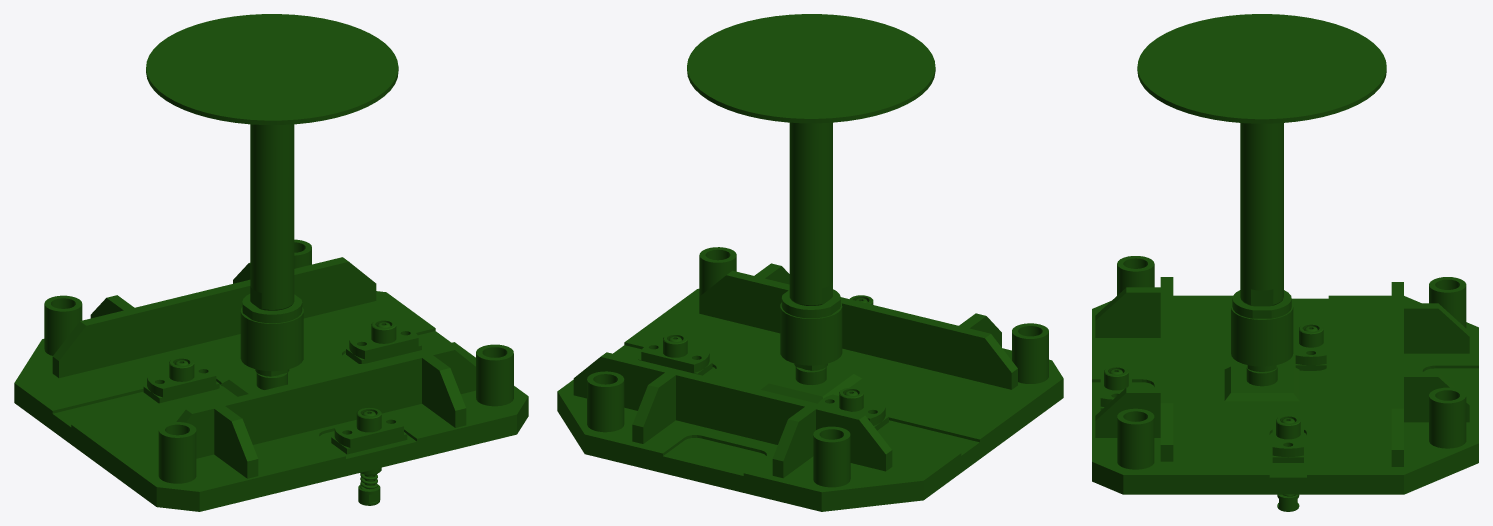
File: D-621-810-AC_強化肋.FBX
The picture shows the model from 3 angles, left to right: view 1: azimuth 30°, elevation 25°; view 2: azimuth 150°, elevation 25°; view 3: azimuth 270°, elevation 25°; orthographic projection.
Parts seen in each view (by area): view 1: 基台, 強化肋; view 2: 基台, 強化肋; view 3: 基台, 強化肋.
Part boxes in pixels (left/top/right/bottom): 基台: left=14, top=14, right=528, bottom=511; 強化肋: left=52, top=257, right=475, bottom=478; 基台: left=557, top=14, right=1063, bottom=511; 強化肋: left=573, top=263, right=1017, bottom=478; 基台: left=1092, top=14, right=1478, bottom=511; 強化肋: left=1095, top=277, right=1469, bottom=466.
Size of the model in its own units: 43.18 by 42.79 by 39.37.
